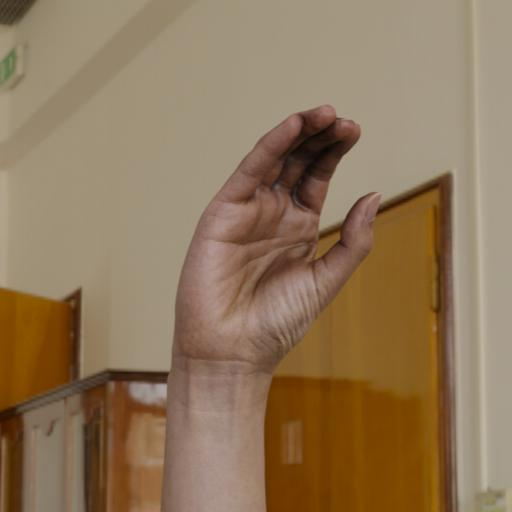C: (133, 81, 406, 512)
